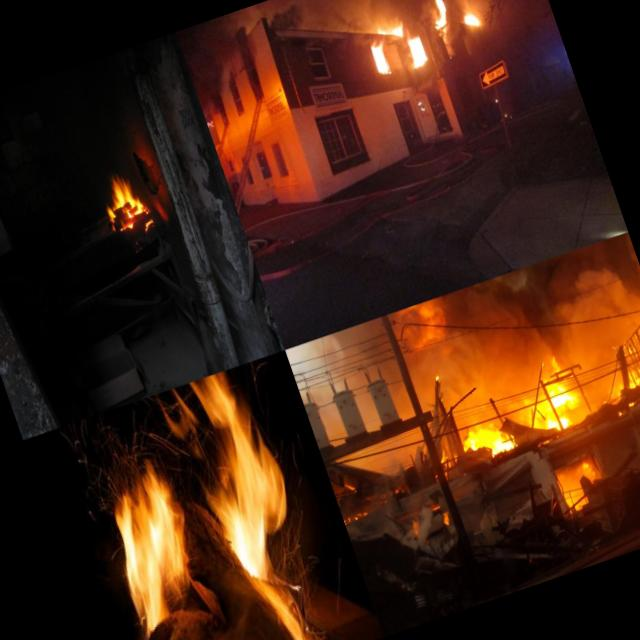fire: (67, 367, 342, 640), (516, 346, 602, 452), (439, 382, 524, 485), (381, 294, 462, 368), (93, 168, 152, 242), (626, 300, 640, 395), (419, 0, 456, 32), (404, 32, 430, 72), (366, 40, 392, 78), (374, 15, 406, 42), (458, 2, 484, 34)
smoke: (527, 266, 640, 339), (310, 316, 398, 389)
